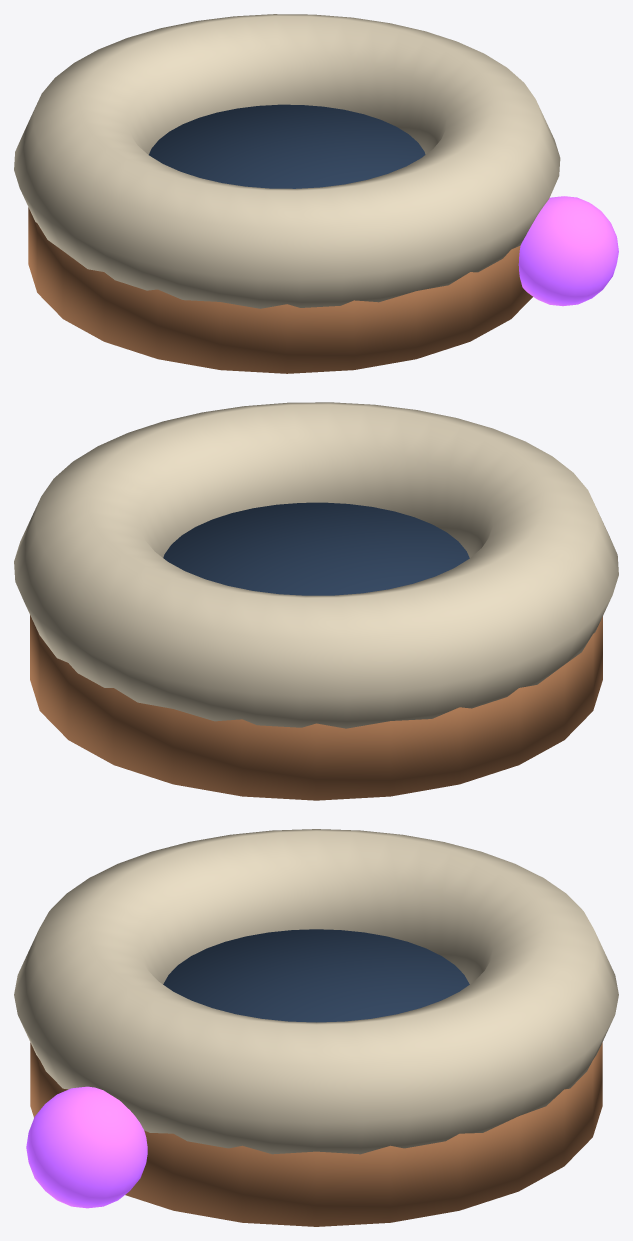
The model's file is cat_bed.glb.
3 renders of one model, top to bottom at view 1: azimuth 30°, elevation 25°; view 2: azimuth 150°, elevation 25°; view 3: azimuth 270°, elevation 25°, orthographic. The views are drawn at different scales.
Visible parts, largest first — view 1: root_cream, root_copper, root_navy, root_purple; view 2: root_cream, root_copper, root_navy; view 3: root_cream, root_copper, root_navy, root_purple.
Part boxes in pixels (bbox=[...]): root_cream: bbox=[14, 14, 560, 308]; root_copper: bbox=[28, 207, 532, 373]; root_navy: bbox=[149, 104, 425, 188]; root_purple: bbox=[518, 196, 618, 306]; root_cream: bbox=[14, 402, 618, 728]; root_copper: bbox=[30, 615, 602, 800]; root_navy: bbox=[163, 502, 469, 595]; root_cream: bbox=[14, 829, 618, 1154]; root_copper: bbox=[30, 1042, 602, 1226]; root_navy: bbox=[163, 929, 469, 1022]; root_purple: bbox=[26, 1086, 147, 1208].
Bounding box in the file's own units: 0.74 × 0.245 × 0.74.
